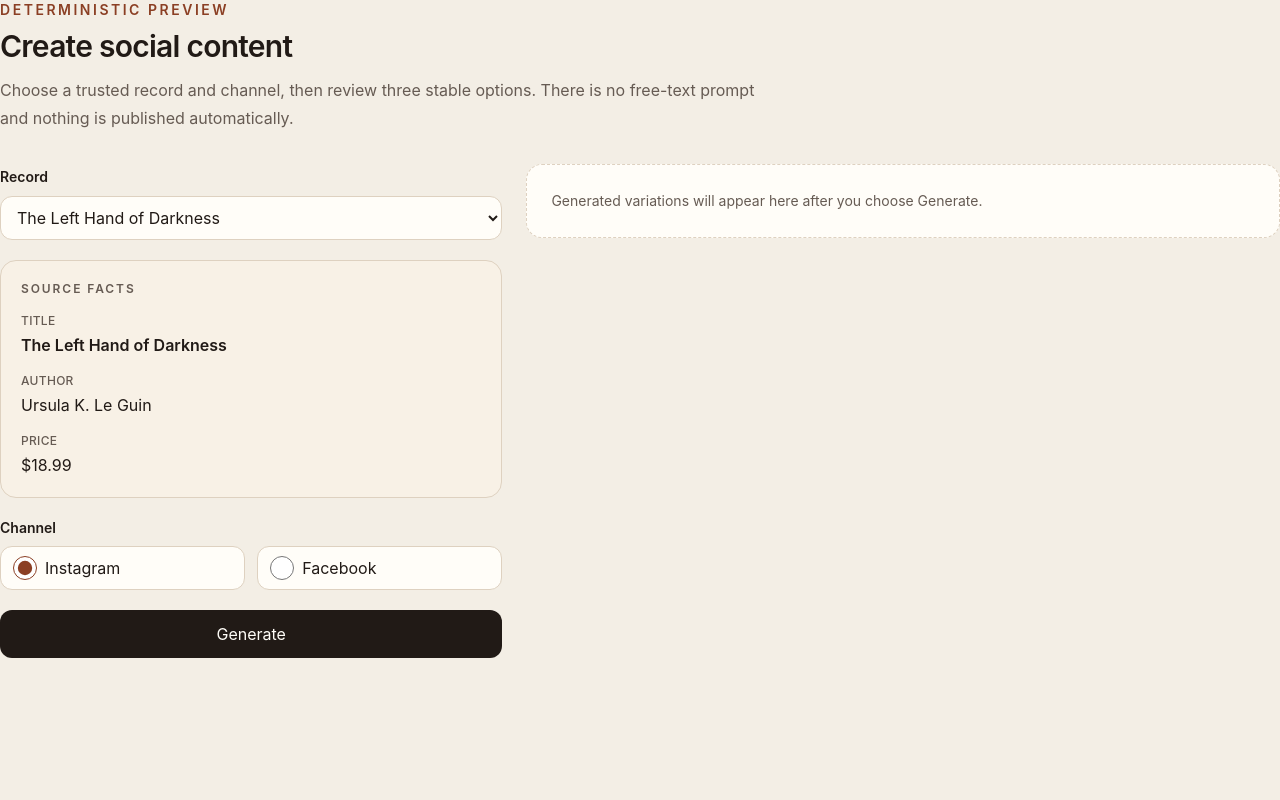
Test case: GeneratorWorkspace › renders exactly three distinct, fully labeled variations
This screenshot has width=1280, height=800.
Click the button "Generate" at (251, 634), box [0,610,502,658]
(page scrolled)
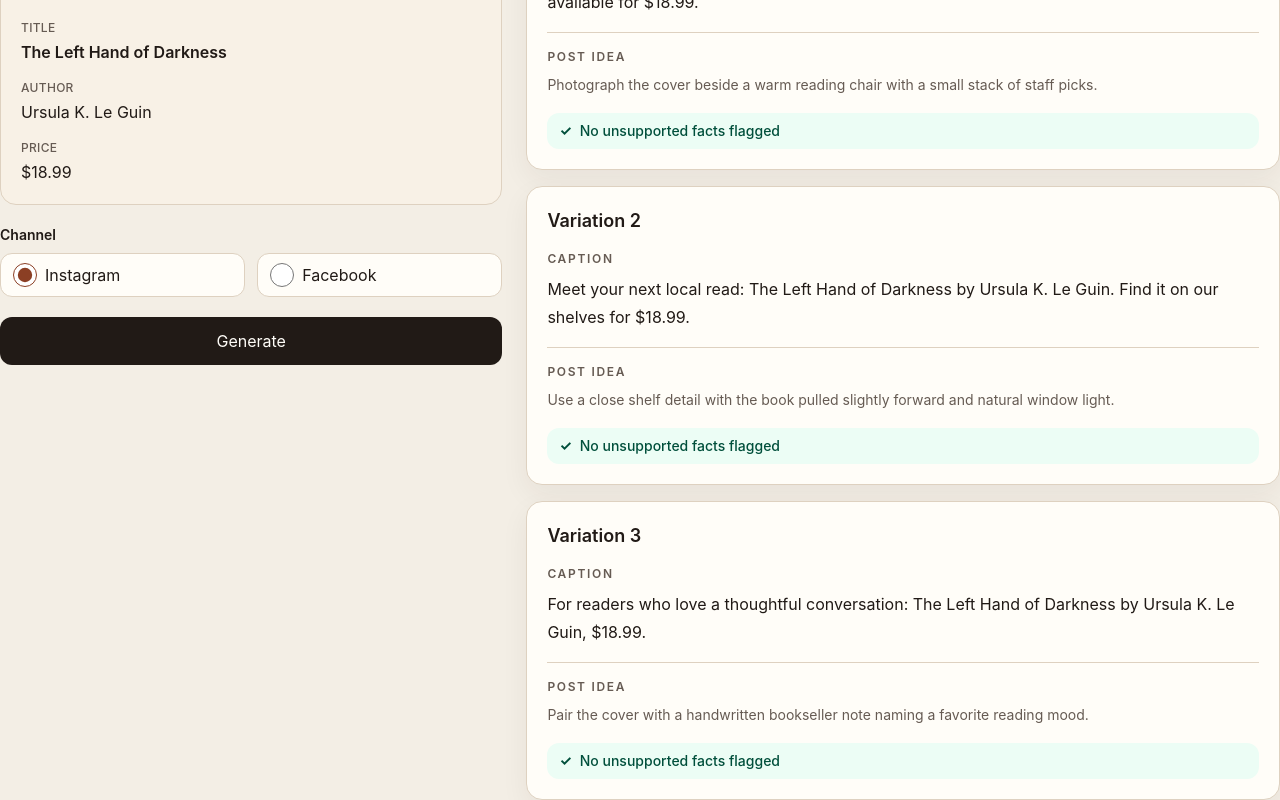
Result: the text named "Post idea" is not empty at [547,76,1098,93]
Result: the 1st text "No unsupported facts flagged" is shown at [580,121,780,141]
Result: the 2nd text "No unsupported facts flagged" is shown at [580,436,780,456]
